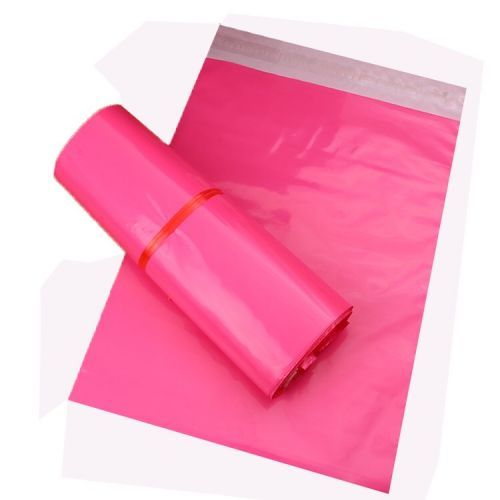Parcel: (54, 27, 464, 492)
